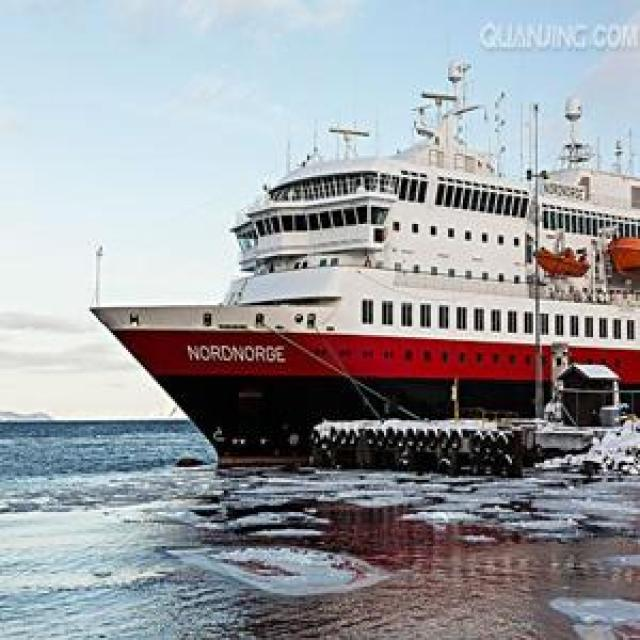passenger ship: (78, 53, 640, 468)
